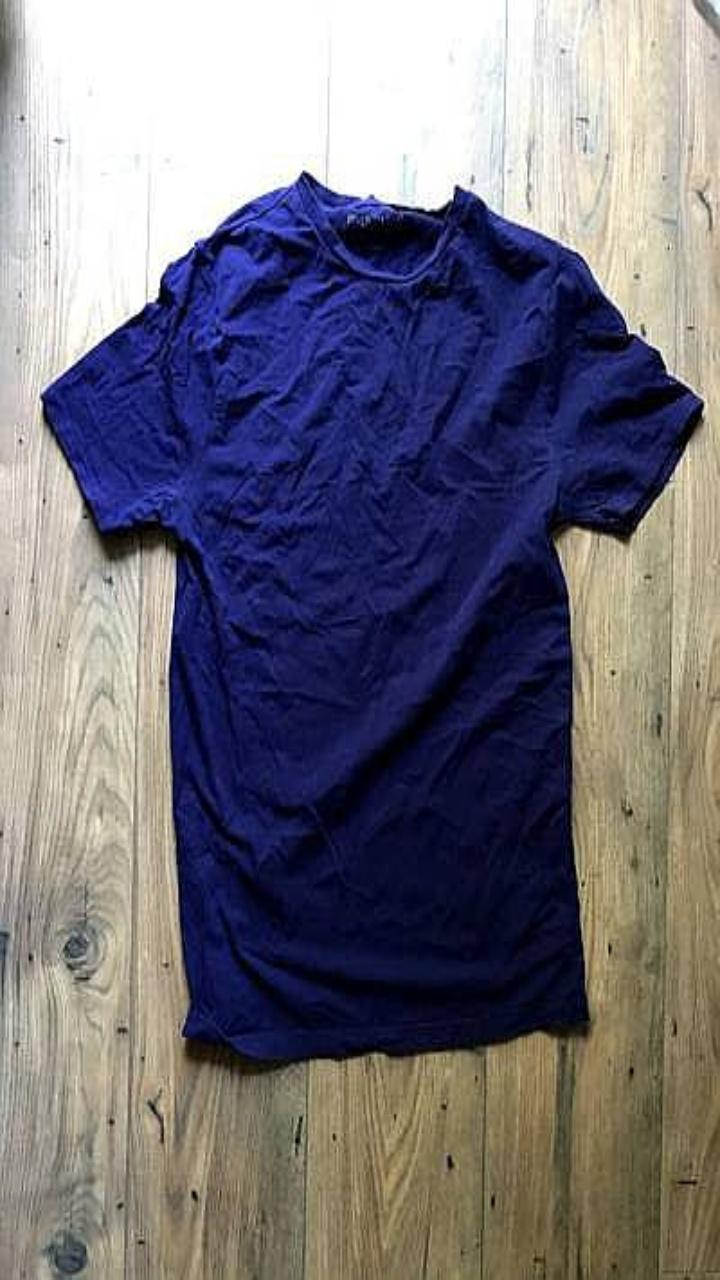T-Shirt: (41, 170, 703, 1059)
